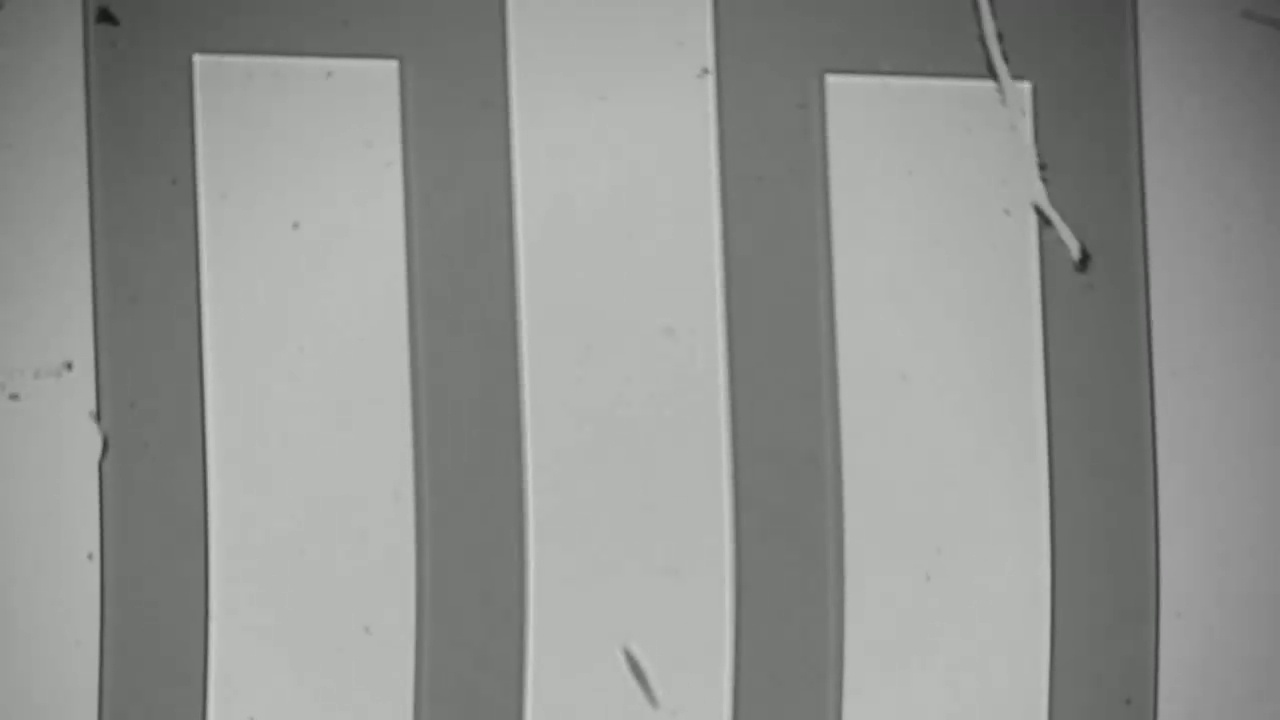Short_circuit: (948, 1, 1029, 101)
